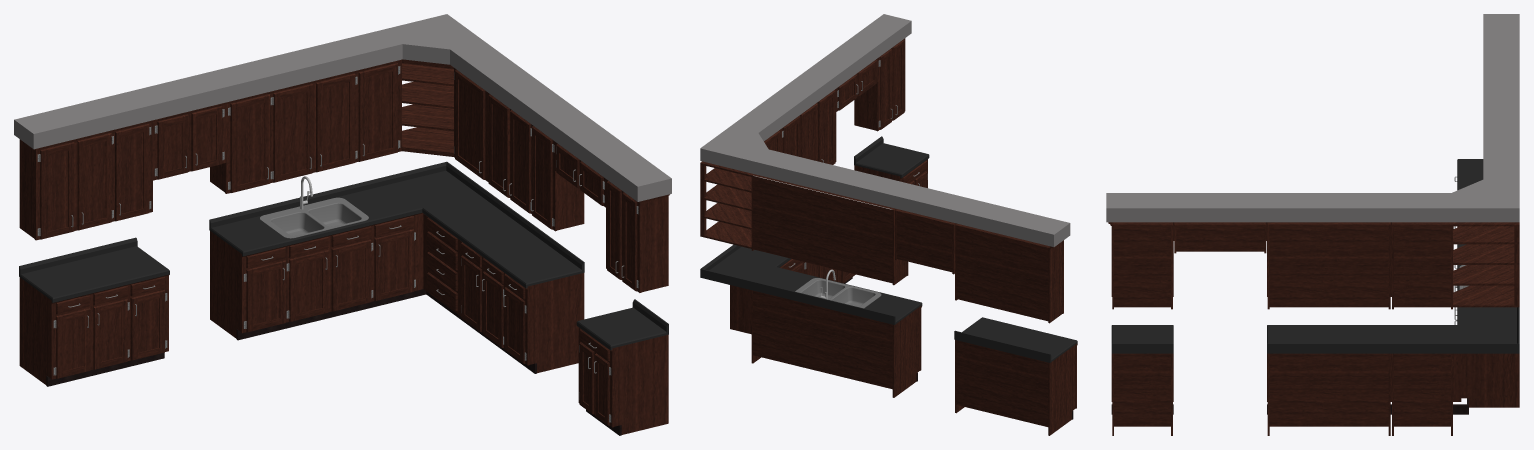
Rendered from kitchen_cabinets.glb.
3 renders of one model, left to right at view 1: azimuth 30°, elevation 25°; view 2: azimuth 150°, elevation 25°; view 3: azimuth 270°, elevation 25°, orthographic. The views are drawn at different scales.
Visible parts, largest first — view 1: Material2 (×52); view 2: Material2 (×31); view 3: Material2 (×19).
Boxes of the visible parts, left/top/right/bottom form: Material2 (×52): left=14, top=14, right=671, bottom=434; Material2 (×31): left=700, top=14, right=1077, bottom=435; Material2 (×19): left=1106, top=14, right=1519, bottom=426.
Bounding box in the file's own units: 178 × 96.94 × 160.
11 materials, 2 textured.
